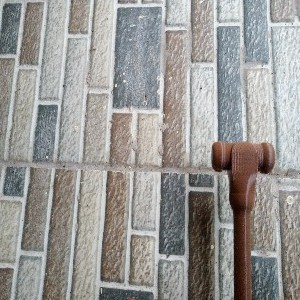palu: (210, 139, 276, 300)
